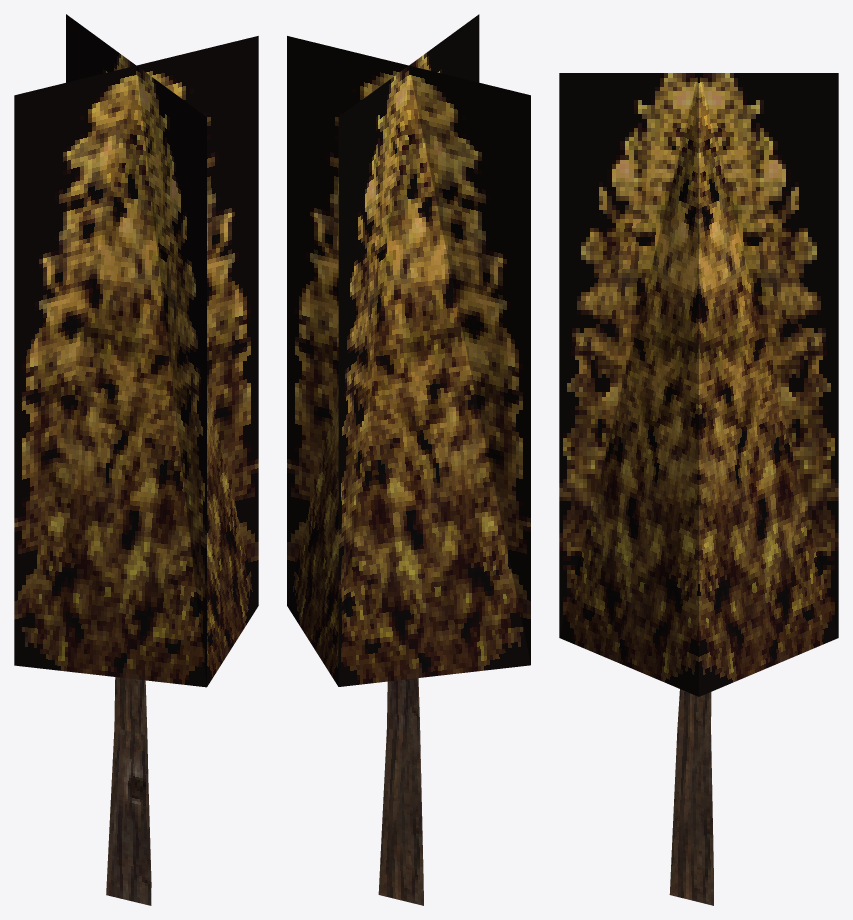
3 views of the same model, side by side, from view 1: azimuth 30°, elevation 25°; view 2: azimuth 150°, elevation 25°; view 3: azimuth 270°, elevation 25° (orthographic).
Visible parts, largest first — view 1: prim034-tree04; view 2: prim034-tree04; view 3: prim034-tree04.
Boxes of the visible parts, x1,y1,x2,y2 form: prim034-tree04: [14, 14, 258, 905]; prim034-tree04: [287, 14, 530, 905]; prim034-tree04: [559, 73, 838, 905].
Size of the model in its own units: 258 by 838 by 258.
Materials: 3 (3 with a texture image).
